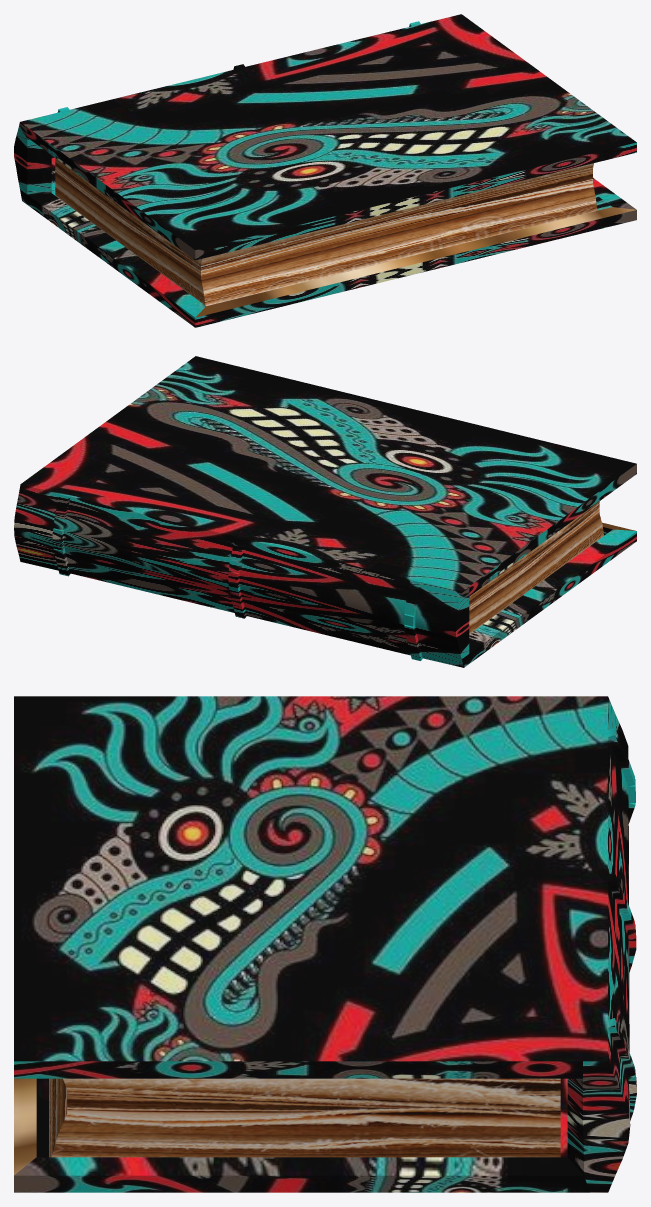
The model's file is aztecbook.fbx.
3 views of the same model, one above another, from view 1: azimuth 30°, elevation 25°; view 2: azimuth 150°, elevation 25°; view 3: azimuth 270°, elevation 25° (orthographic). The views are drawn at different scales.
Visible parts, largest first — view 1: pCube1, pCube2; view 2: pCube1, pCube2; view 3: pCube1, pCube2.
Part boxes in pixels (<box>): pCube1: <box>14,14,636,327</box>; pCube2: <box>55,158,597,306</box>; pCube1: <box>14,356,636,667</box>; pCube2: <box>469,501,604,633</box>; pCube1: <box>14,696,636,1192</box>; pCube2: <box>49,1078,560,1157</box>.
Size of the model in its own units: 5.96 by 1.04 by 4.29.
Materials: 3 (3 with a texture image).
